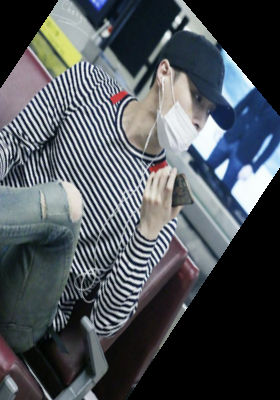mask_weared_incorrect: (147, 27, 241, 169)
